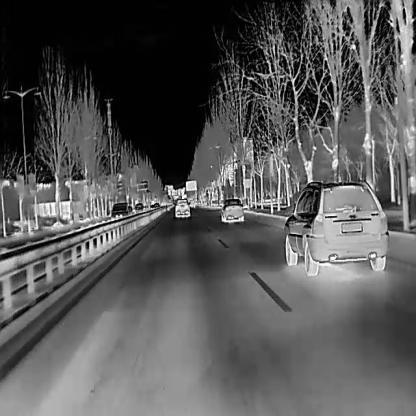car: (283, 179, 387, 275), (220, 198, 243, 222), (109, 201, 129, 221), (174, 196, 189, 217), (133, 203, 143, 214), (149, 204, 155, 211), (188, 200, 194, 207), (154, 202, 158, 209)
